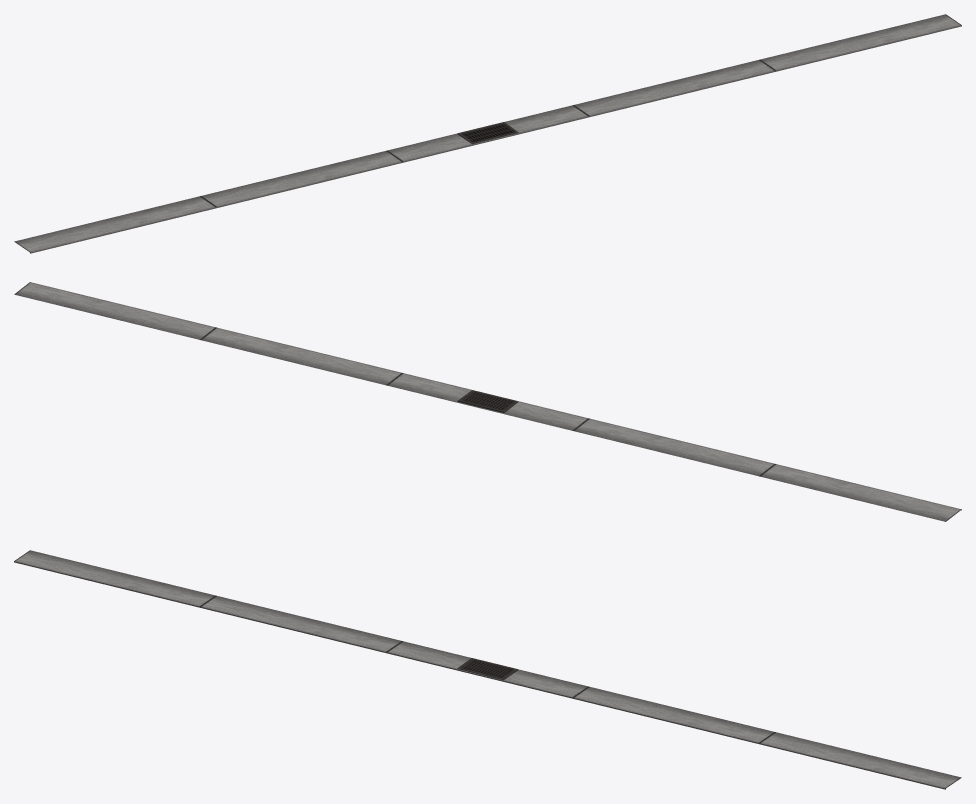
Rendered from gutter-l.obj.
3 views of the same model, one above another, from view 1: azimuth 30°, elevation 25°; view 2: azimuth 150°, elevation 25°; view 3: azimuth 330°, elevation 25° (orthographic).
Visible parts, largest first — view 1: gutter-l; view 2: gutter-l; view 3: gutter-l.
Boxes of the visible parts, x1,y1,x2,y2 form: gutter-l: [14, 14, 961, 253]; gutter-l: [14, 282, 961, 521]; gutter-l: [14, 550, 961, 789].
Bounding box in the file's own units: 10 × 0.0157 × 0.3.
